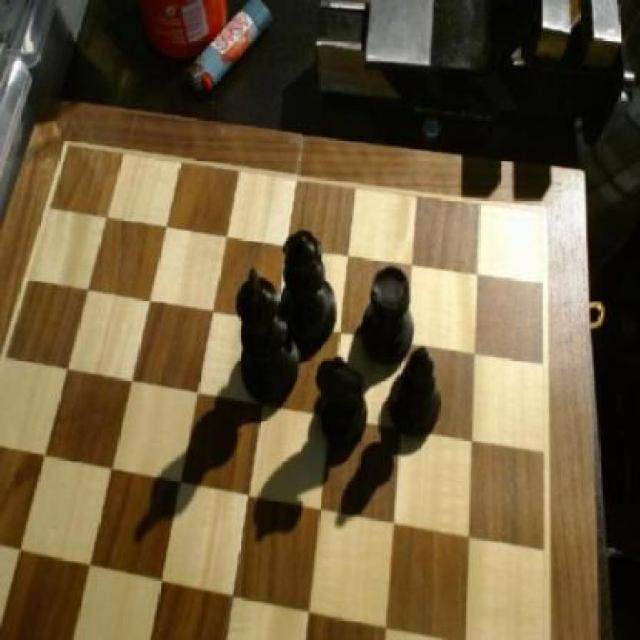bishop: (391, 343, 447, 446)
black-bishop: (234, 266, 306, 405)
black-king: (314, 352, 368, 440)
black-pawn: (278, 226, 338, 347)
black-queen: (361, 264, 417, 360)
